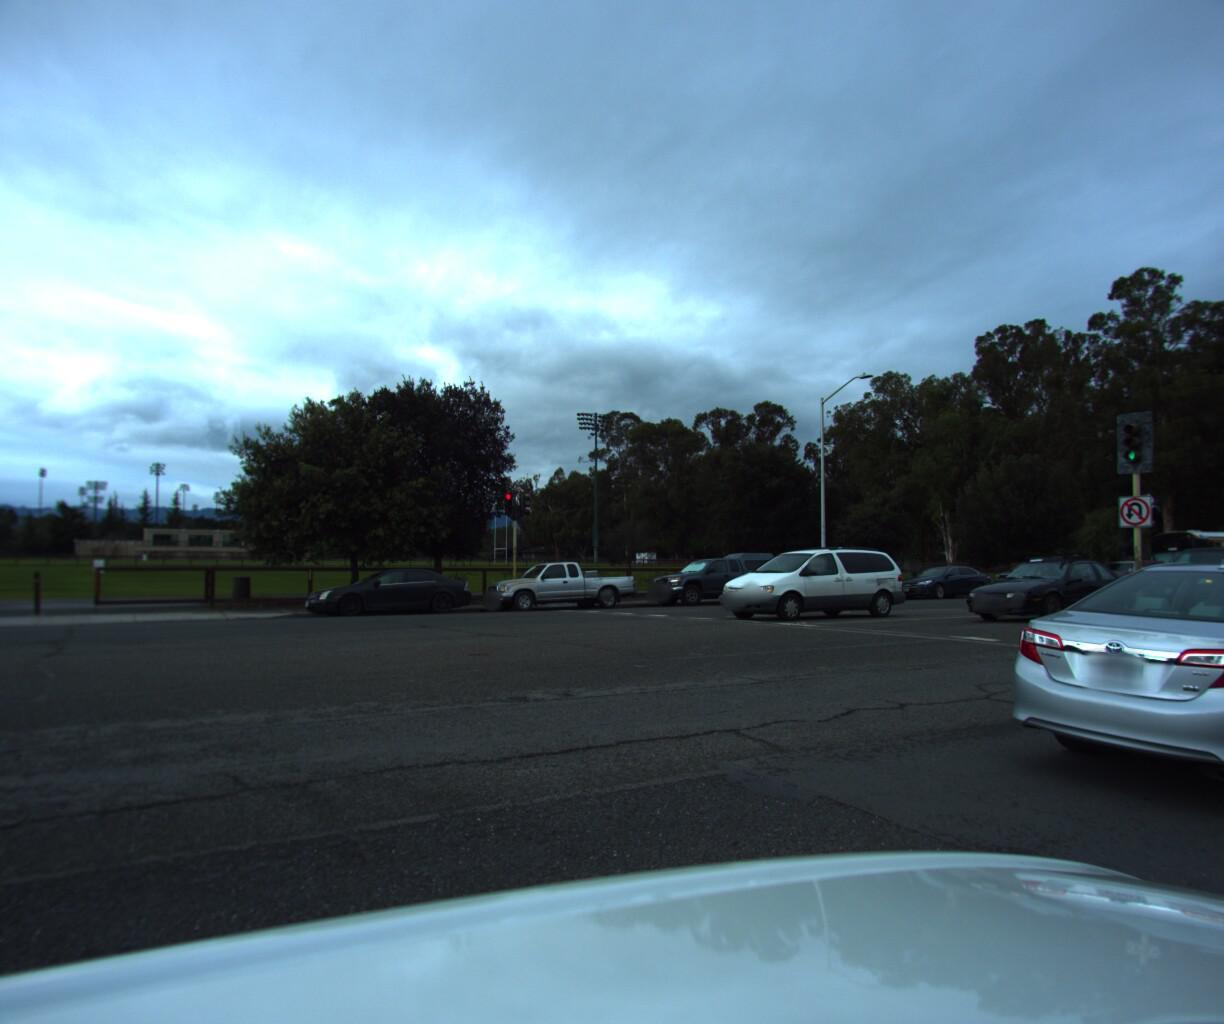bus: (1140, 517, 1224, 591)
car: (967, 549, 1224, 835), (703, 540, 912, 621), (942, 540, 1148, 622), (297, 564, 479, 624), (473, 554, 642, 616), (639, 546, 792, 607), (1121, 537, 1224, 608), (978, 552, 1090, 592), (882, 558, 994, 594), (1072, 552, 1167, 592)
